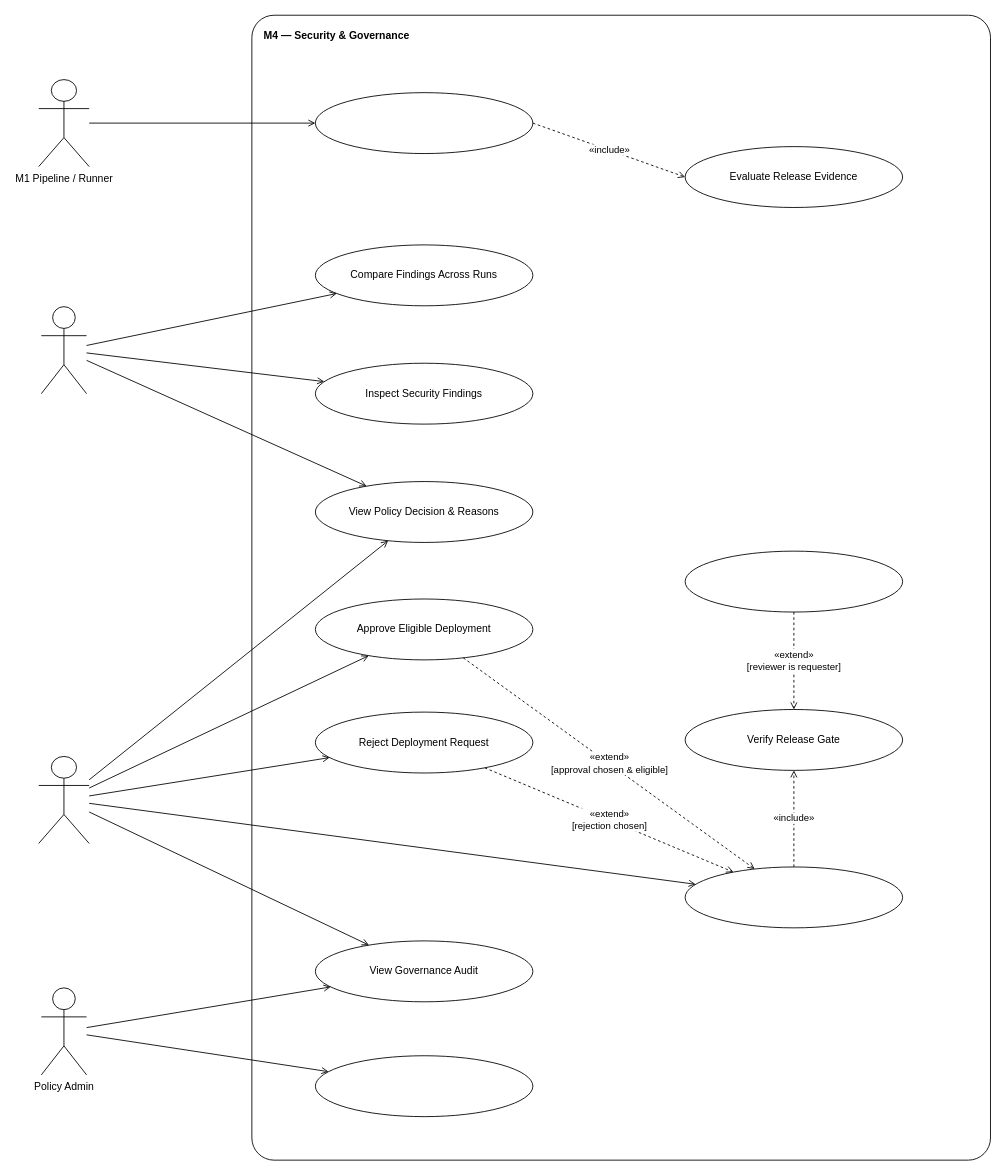
This 1006x1175 diagram has some shape labels left out. Each missing label, with the centre of its shape:
Check Self-Approval Privilege: point (793, 581)
Configure Release Policy: point (424, 1086)
Developer: point (63, 350)
Process Security Scan Result: point (424, 123)
Review Deployment Request: point (793, 897)
Reviewer / Approver: point (63, 799)
